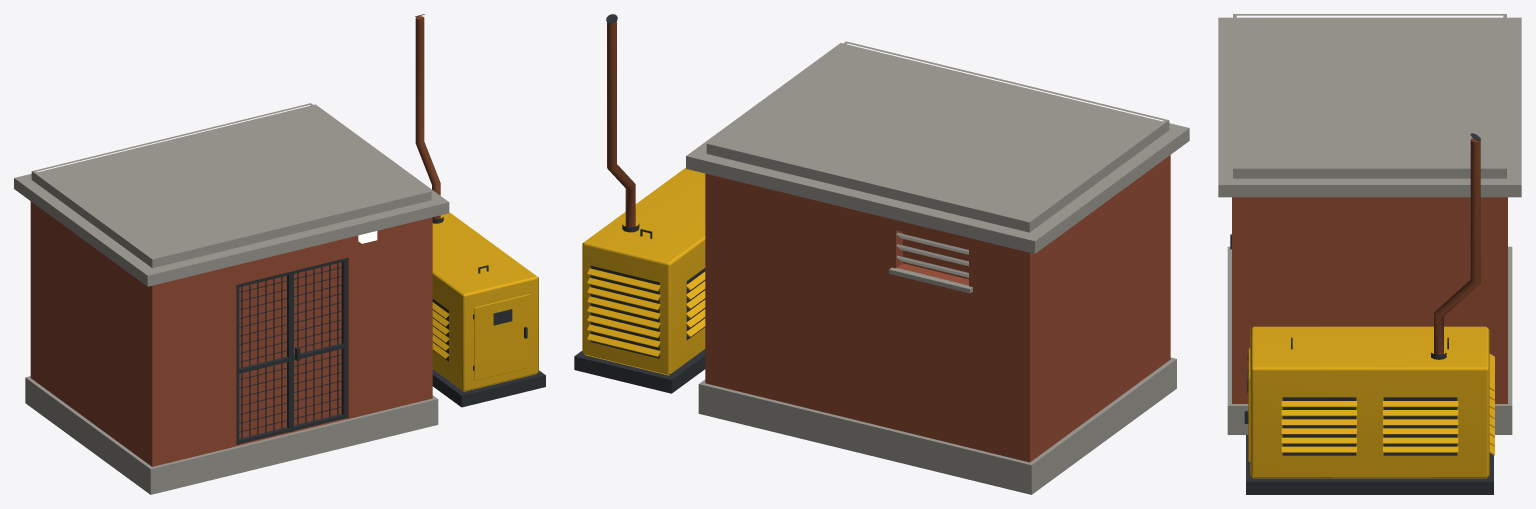
Rendered from generator_room.glb.
3 renders of one model, left to right at view 1: azimuth 30°, elevation 25°; view 2: azimuth 150°, elevation 25°; view 3: azimuth 270°, elevation 25°, orthographic. The views are drawn at different scales.
Visible parts, largest first — view 1: generator_room, DGSet; view 2: generator_room, DGSet; view 3: generator_room, DGSet.
Part boxes in pixels (<box>): generator_room: <box>14,103,449,494</box>; DGSet: <box>415,14,545,407</box>; generator_room: <box>686,41,1189,494</box>; DGSet: <box>574,14,705,393</box>; generator_room: <box>1218,14,1521,434</box>; DGSet: <box>1244,133,1494,494</box>.
Size of the model in its own units: 5.86 by 4.22 by 3.3.
